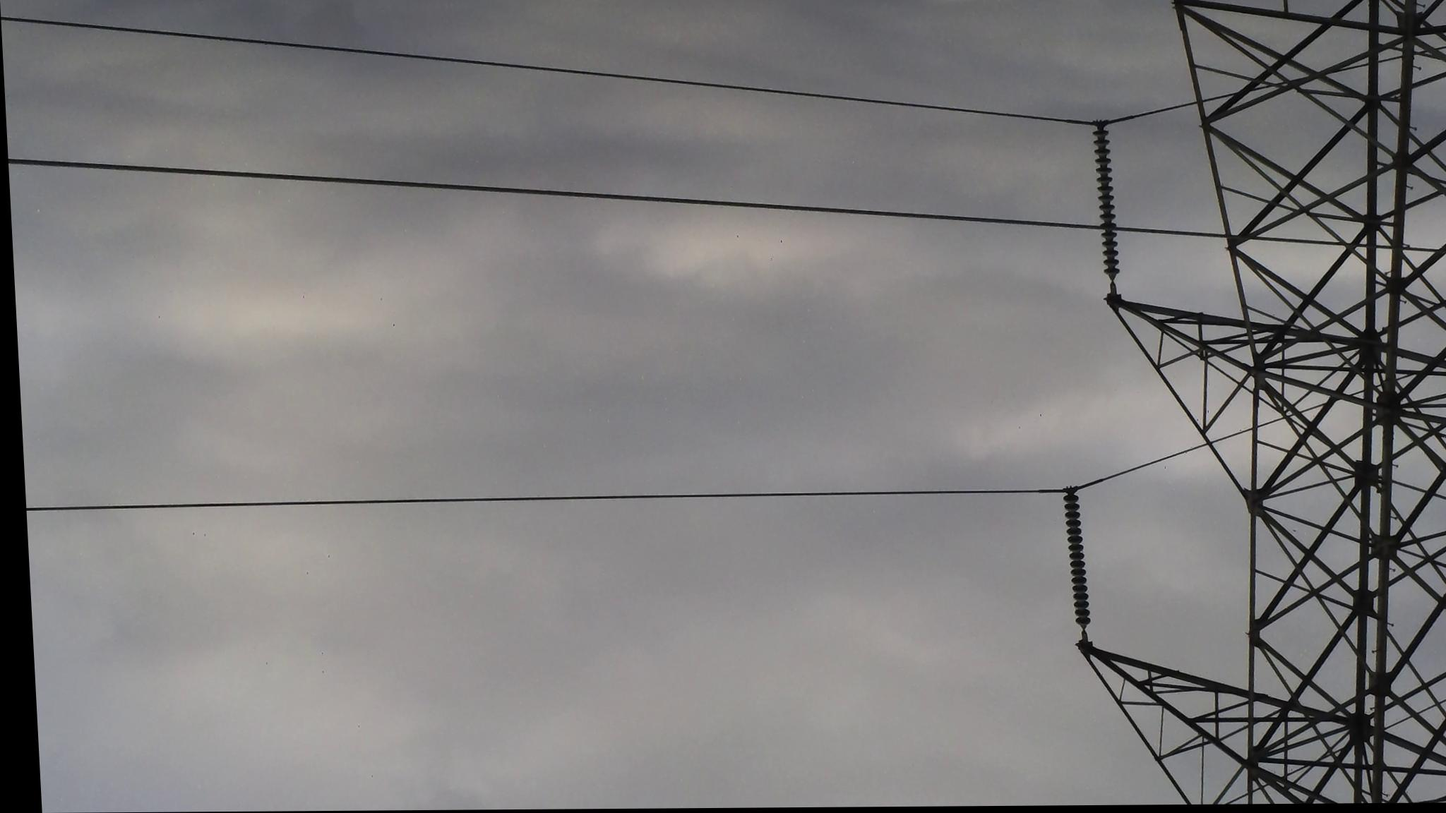tower: (1030, 0, 1446, 804)
